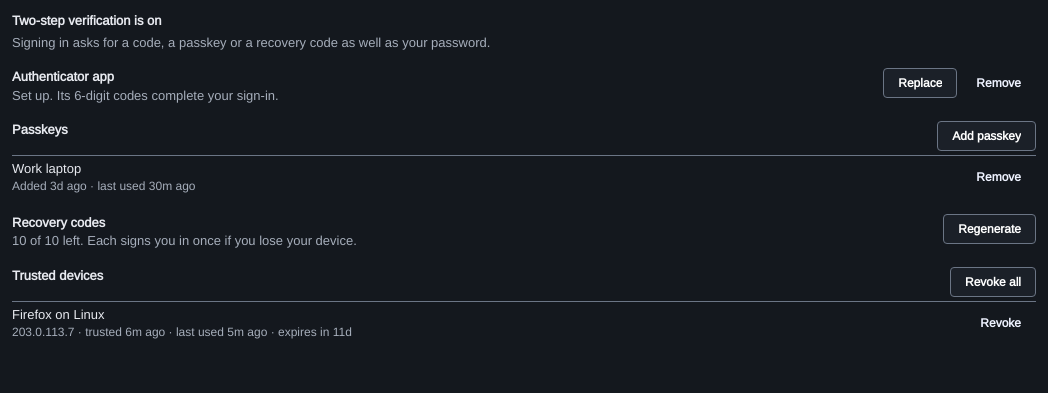
TwoStepSection › revokes every trusted device at once
Click the button "Revoke all": coordinates (993, 282) left=950, top=266, right=1036, bottom=296
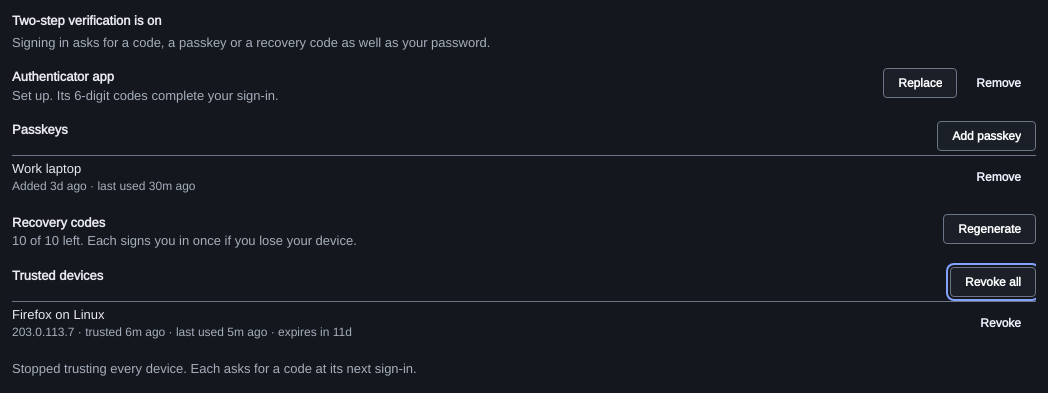
Expected: the text "Stopped trusting every device" is shown, left=12, top=360, right=417, bottom=377
